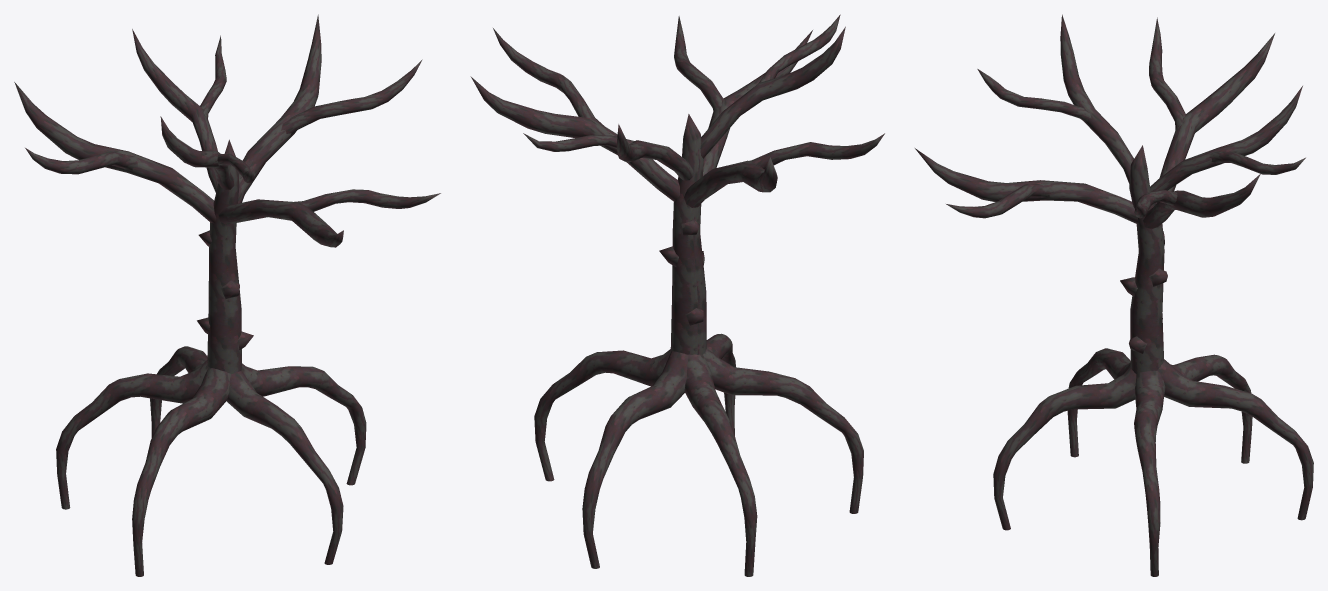
The model's file is FSCMangrove.fbx.
3 views of the same model, side by side, from view 1: azimuth 30°, elevation 25°; view 2: azimuth 150°, elevation 25°; view 3: azimuth 270°, elevation 25° (orthographic). The views are drawn at different scales.
Parts seen in each view (by area): view 1: Mangrove Medium_LOD0; view 2: Mangrove Medium_LOD0; view 3: Mangrove Medium_LOD0.
Boxes of the visible parts, left/top/right/bottom form: Mangrove Medium_LOD0: left=14, top=14, right=440, bottom=576; Mangrove Medium_LOD0: left=470, top=14, right=884, bottom=576; Mangrove Medium_LOD0: left=915, top=14, right=1313, bottom=576.
Size of what is drawn, in the model's own units: 5099 by 5773 by 4666.
